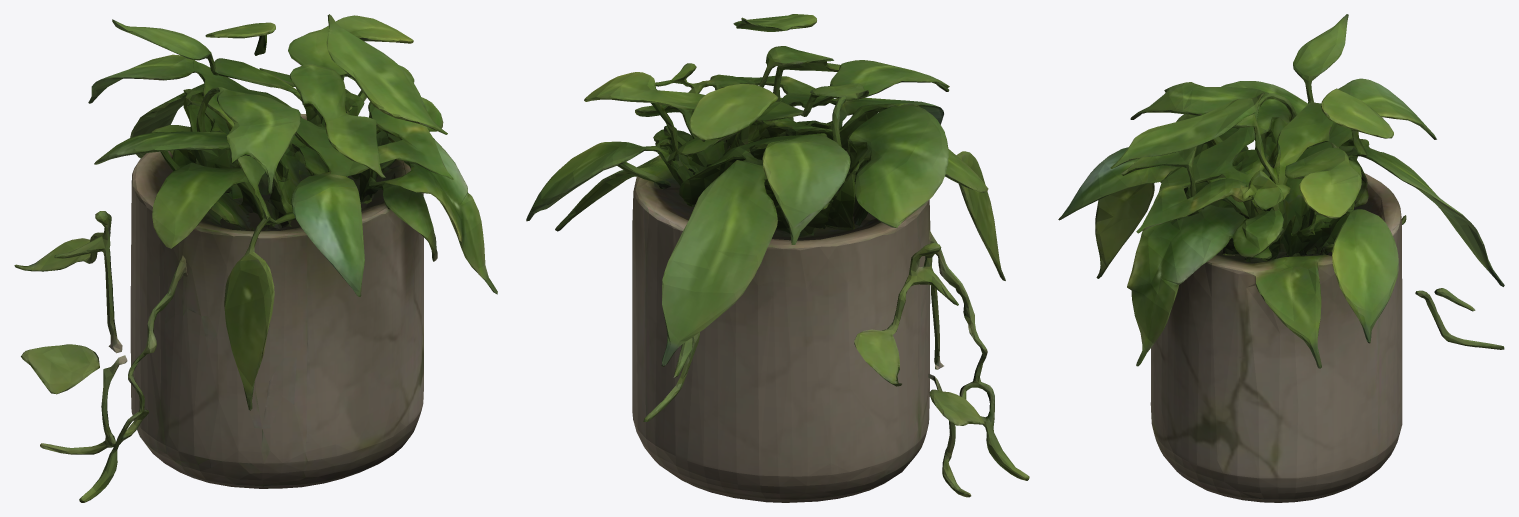
The picture shows the model from 3 angles, left to right: view 1: azimuth 30°, elevation 25°; view 2: azimuth 150°, elevation 25°; view 3: azimuth 270°, elevation 25°; orthographic projection. The views are drawn at different scales.
Visible parts, largest first — view 1: geometry_0; view 2: geometry_0; view 3: geometry_0.
Part boxes in pixels (x1,y1,x2,y2): geometry_0: [14, 14, 497, 502]; geometry_0: [526, 14, 1029, 502]; geometry_0: [1058, 14, 1504, 502].
Size of the model in its own units: 1 by 0.9551 by 0.9991.
1 material, 1 textured.
